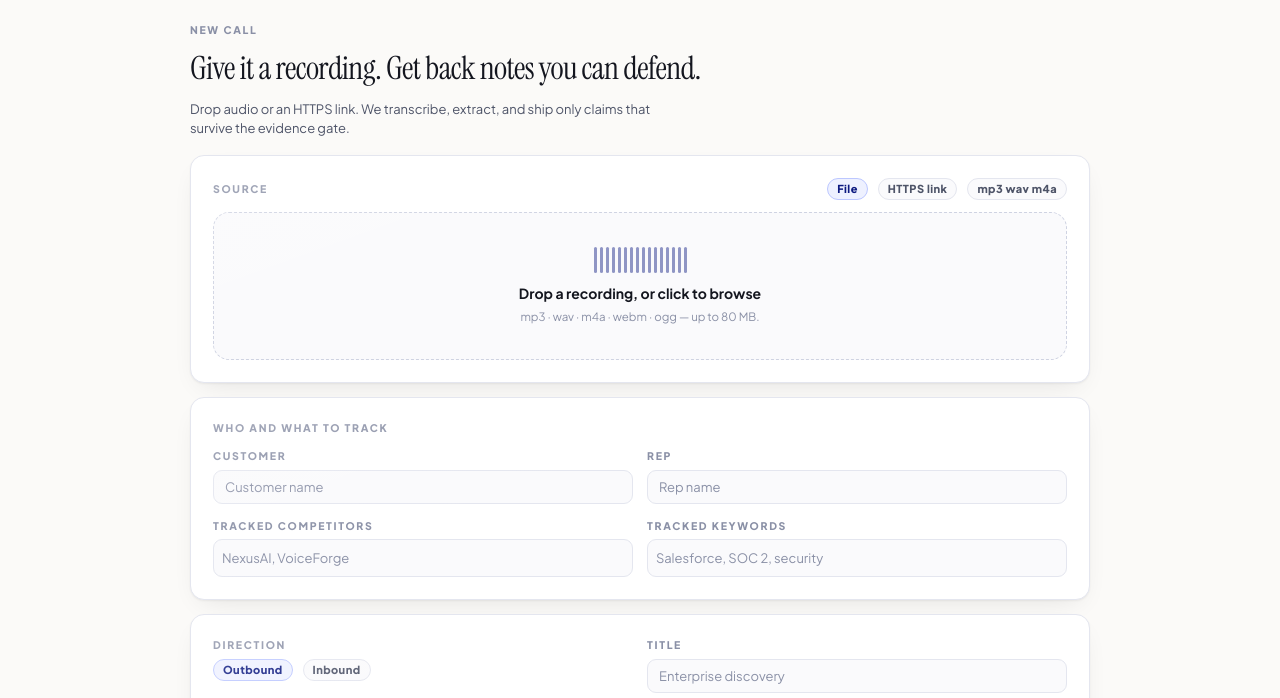
it: UploadPage › requires HTTPS for the link source
The width and height of the screenshot is (1280, 698).
Click the button "HTTPS link" at (918, 189), box [878,178,957,200]
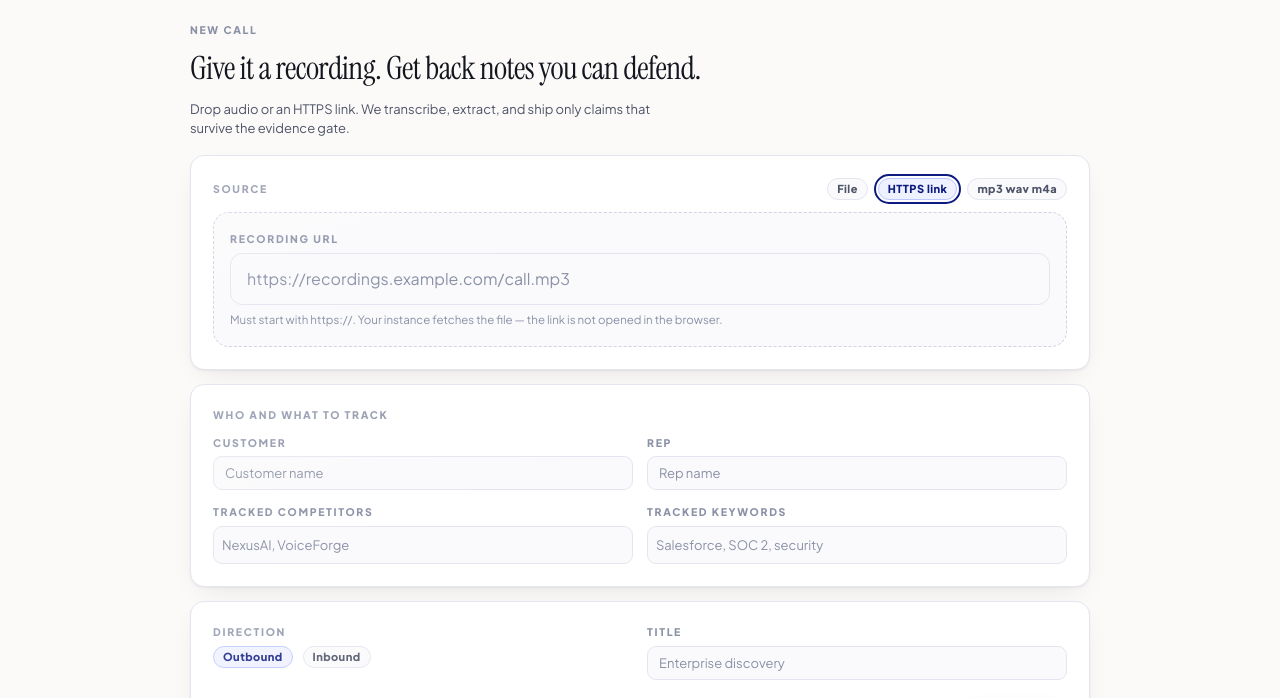
Type "http://files.example.com/call.mp3" into the field labelled "Recording URL" at (640, 278), box [230,252,1050,304]
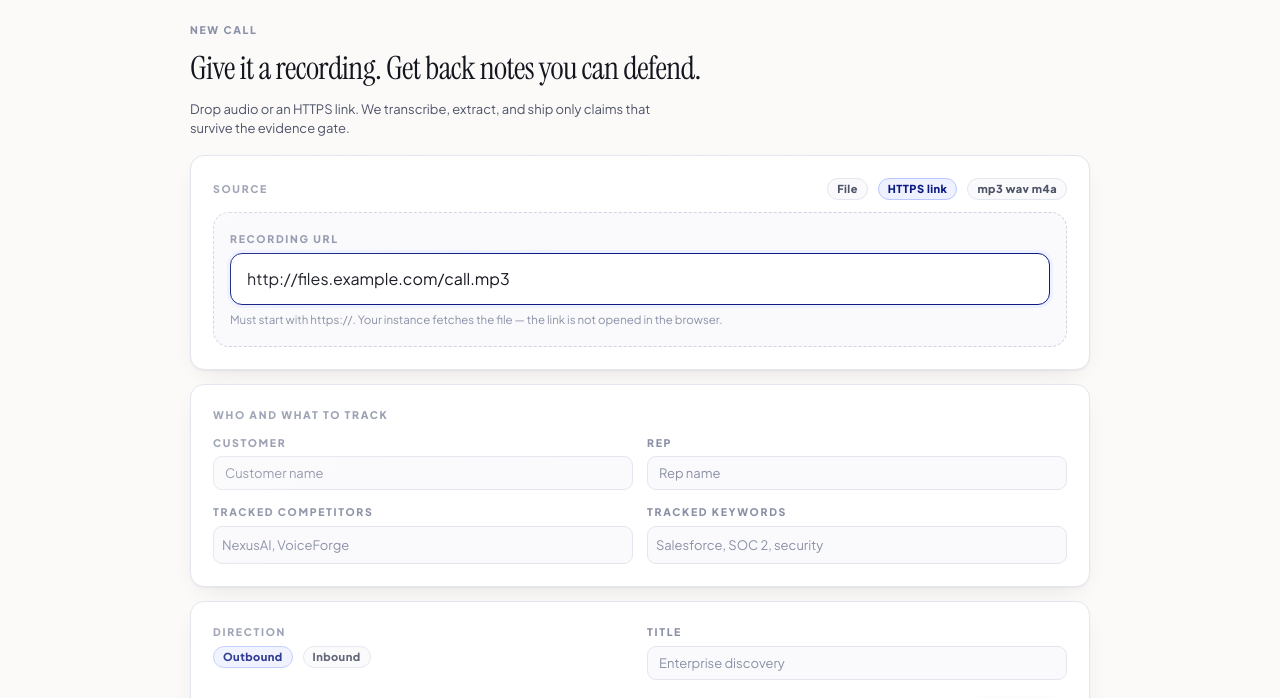
Press Tab
(page scrolled)
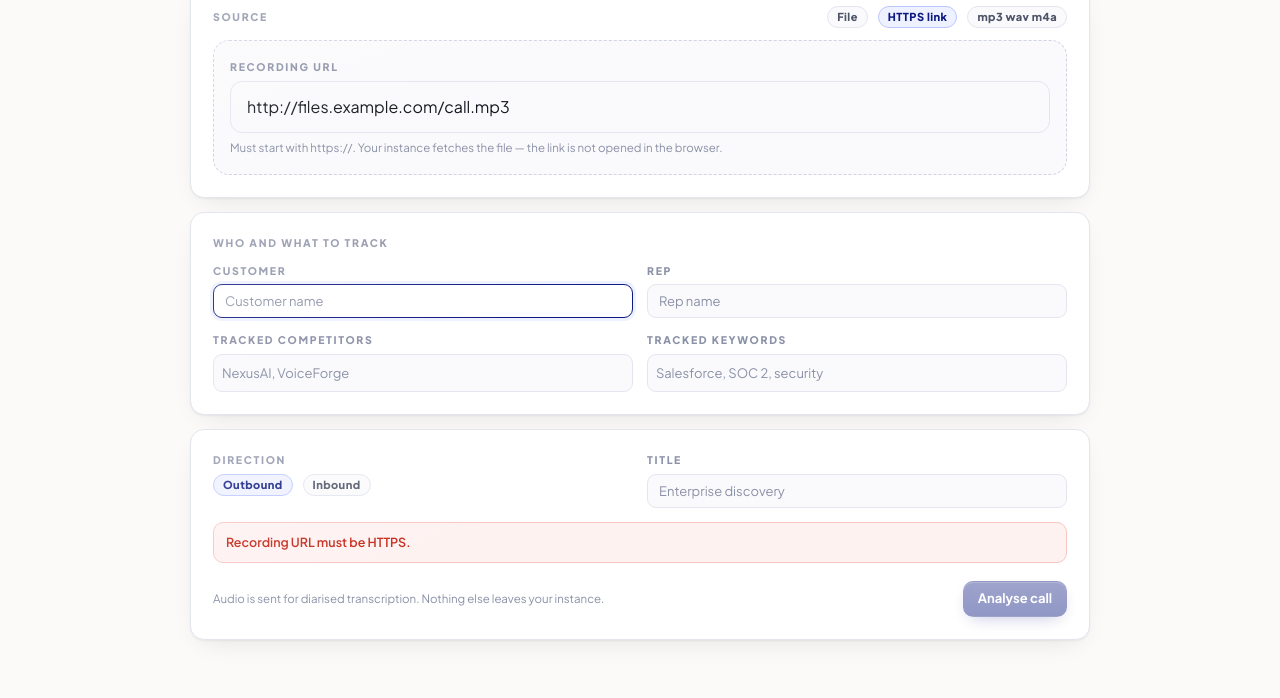
Check: the button "Analyse call" is disabled, box [963,580,1067,616]
Check: the message reads "Recording URL must be HTTPS.", box [226,534,410,550]
Check: the number of messages is 1, box [213,522,1067,563]
